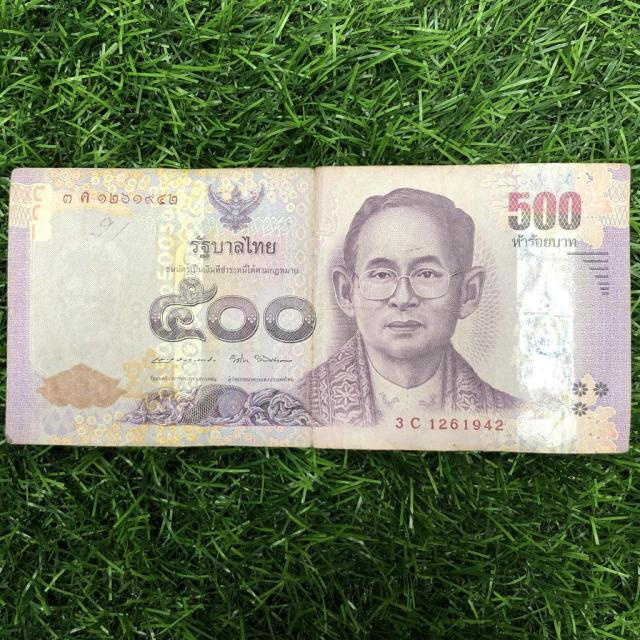THAI500: (4, 162, 632, 458)
